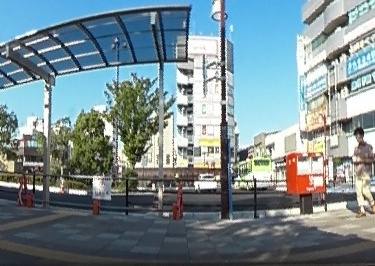person: (352, 125, 375, 214)
